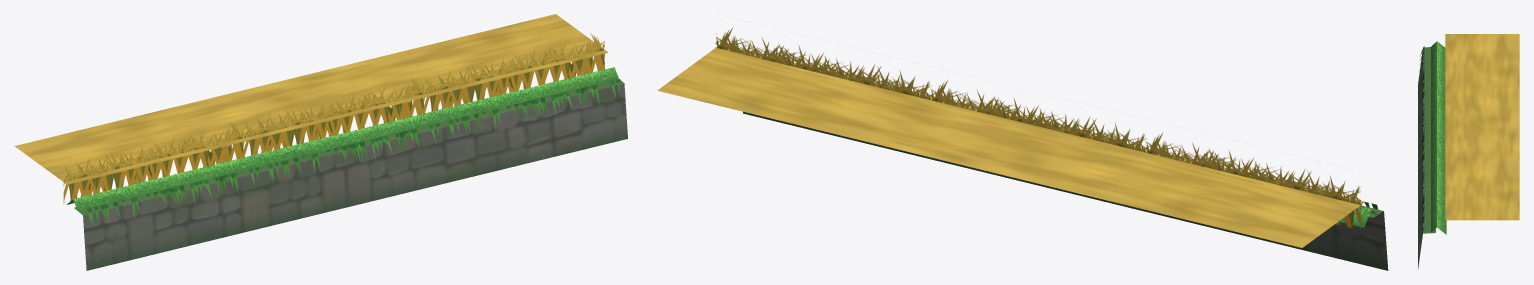
File: terrace_straight_ripe_far.glb
3 views of the same model, side by side, from view 1: azimuth 30°, elevation 25°; view 2: azimuth 150°, elevation 25°; view 3: azimuth 270°, elevation 25° (orthographic). The views are drawn at different scales.
Parts seen in each view (by area): view 1: terrace_straight_ripe_far_cards, terrace_straight_ripe_far_wall, terrace_straight_ripe_far_dike; view 2: terrace_straight_ripe_far_cards, terrace_straight_ripe_far_wall; view 3: terrace_straight_ripe_far_cards, terrace_straight_ripe_far_dike, terrace_straight_ripe_far_wall.
Boxes of the visible parts, x1,y1,x2,y2 form: terrace_straight_ripe_far_cards: (14,14,620,225); terrace_straight_ripe_far_wall: (74,78,627,270); terrace_straight_ripe_far_dike: (67,67,618,210); terrace_straight_ripe_far_cards: (657,27,1377,247); terrace_straight_ripe_far_wall: (743,111,1388,270); terrace_straight_ripe_far_cards: (1419,34,1519,235); terrace_straight_ripe_far_dike: (1431,41,1446,234); terrace_straight_ripe_far_wall: (1418,47,1435,269).
Bounding box in the file's own units: 12 × 2.13 × 2.79.
3 materials, 3 textured.
